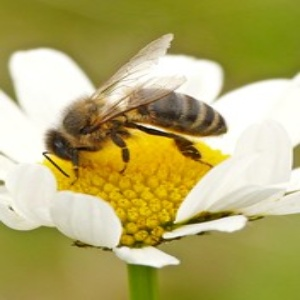bee: (43, 32, 230, 191)
